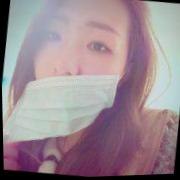WRONG: (21, 1, 138, 123)
